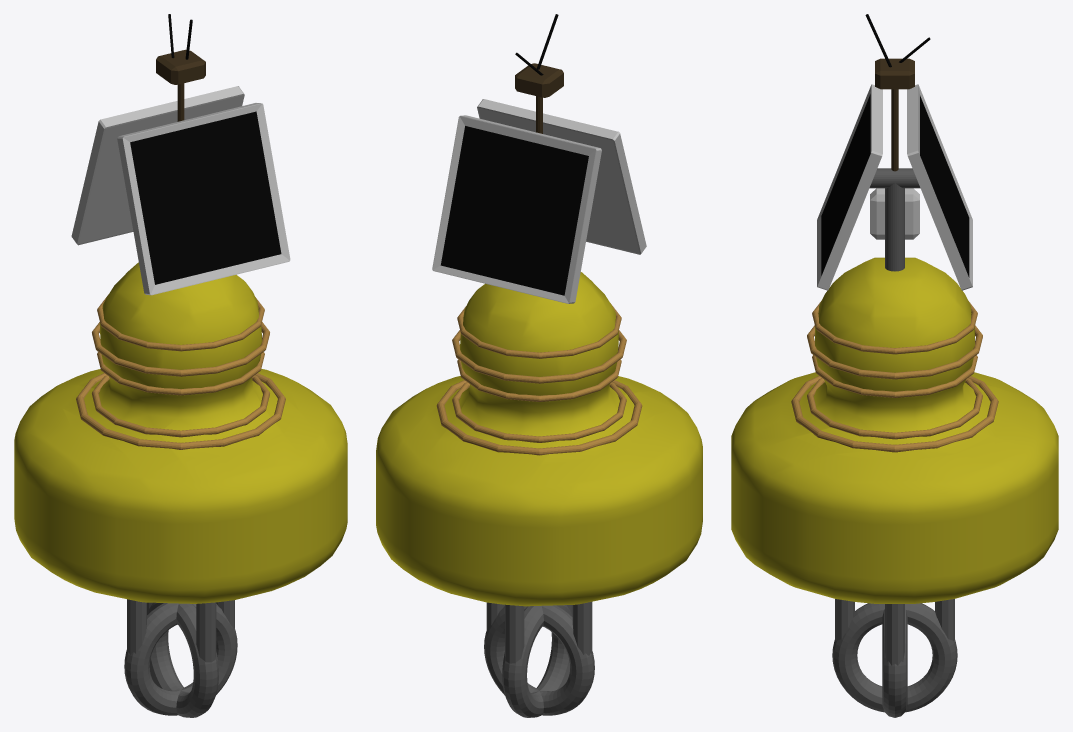
Rendered from sonar_buoy.dae.
3 views of the same model, side by side, from view 1: azimuth 30°, elevation 25°; view 2: azimuth 150°, elevation 25°; view 3: azimuth 270°, elevation 25° (orthographic). The views are drawn at different scales.
Visible parts, largest first — view 1: Mballe.002, Cube.001, Cube.002, Torus.001, Torus, Torus.003, Torus.002, Torus.005, Torus.004, Cube, Torus.006, Cylindre.005 (+1 smaller); view 2: Mballe.002, Cube.002, Cube.001, Torus.001, Torus, Torus.003, Torus.002, Torus.005, Torus.004, Cube, Torus.006, Cylindre.003 (+1 smaller); view 3: Mballe.002, Cube.002, Cube.001, Torus, Torus.003, Torus.002, Cylindre.001, Torus.001, Torus.005, Cube.003, Torus.004, Torus.006 (+6 smaller).
Boxes of the visible parts, x1,y1,x2,y2 form: Mballe.002: [14, 262, 347, 603]; Cube.001: [117, 103, 290, 295]; Cube.002: [71, 86, 244, 245]; Torus.001: [124, 603, 237, 715]; Torus: [147, 602, 218, 717]; Torus.003: [76, 373, 285, 449]; Torus.002: [92, 375, 269, 437]; Torus.005: [92, 322, 269, 376]; Torus.004: [97, 294, 264, 351]; Cube: [156, 49, 205, 84]; Torus.006: [97, 352, 264, 395]; Cylindre.005: [196, 602, 216, 662]; Mballe.002: [376, 272, 702, 606]; Cube.002: [432, 115, 601, 303]; Cube.001: [477, 99, 646, 254]; Torus.001: [484, 605, 594, 715]; Torus: [502, 605, 572, 717]; Torus.003: [436, 380, 642, 455]; Torus.002: [452, 382, 626, 442]; Torus.005: [452, 330, 626, 383]; Torus.004: [457, 303, 621, 358]; Cube: [515, 63, 563, 97]; Torus.006: [457, 359, 621, 401]; Cylindre.003: [505, 604, 524, 663]; Mballe.002: [731, 257, 1058, 603]; Cube.002: [907, 84, 972, 290]; Cube.001: [817, 84, 882, 290]; Torus: [832, 603, 957, 712]; Torus.003: [791, 376, 998, 452]; Torus.002: [807, 378, 982, 439]; Cylindre.001: [885, 183, 904, 271]; Torus.001: [882, 609, 907, 717]; Torus.005: [807, 325, 982, 379]; Cube.003: [870, 188, 919, 239]; Torus.004: [812, 301, 977, 354]; Torus.006: [812, 355, 977, 397].
Bounding box in the file's own units: 3.27 × 3.27 × 7.66.
